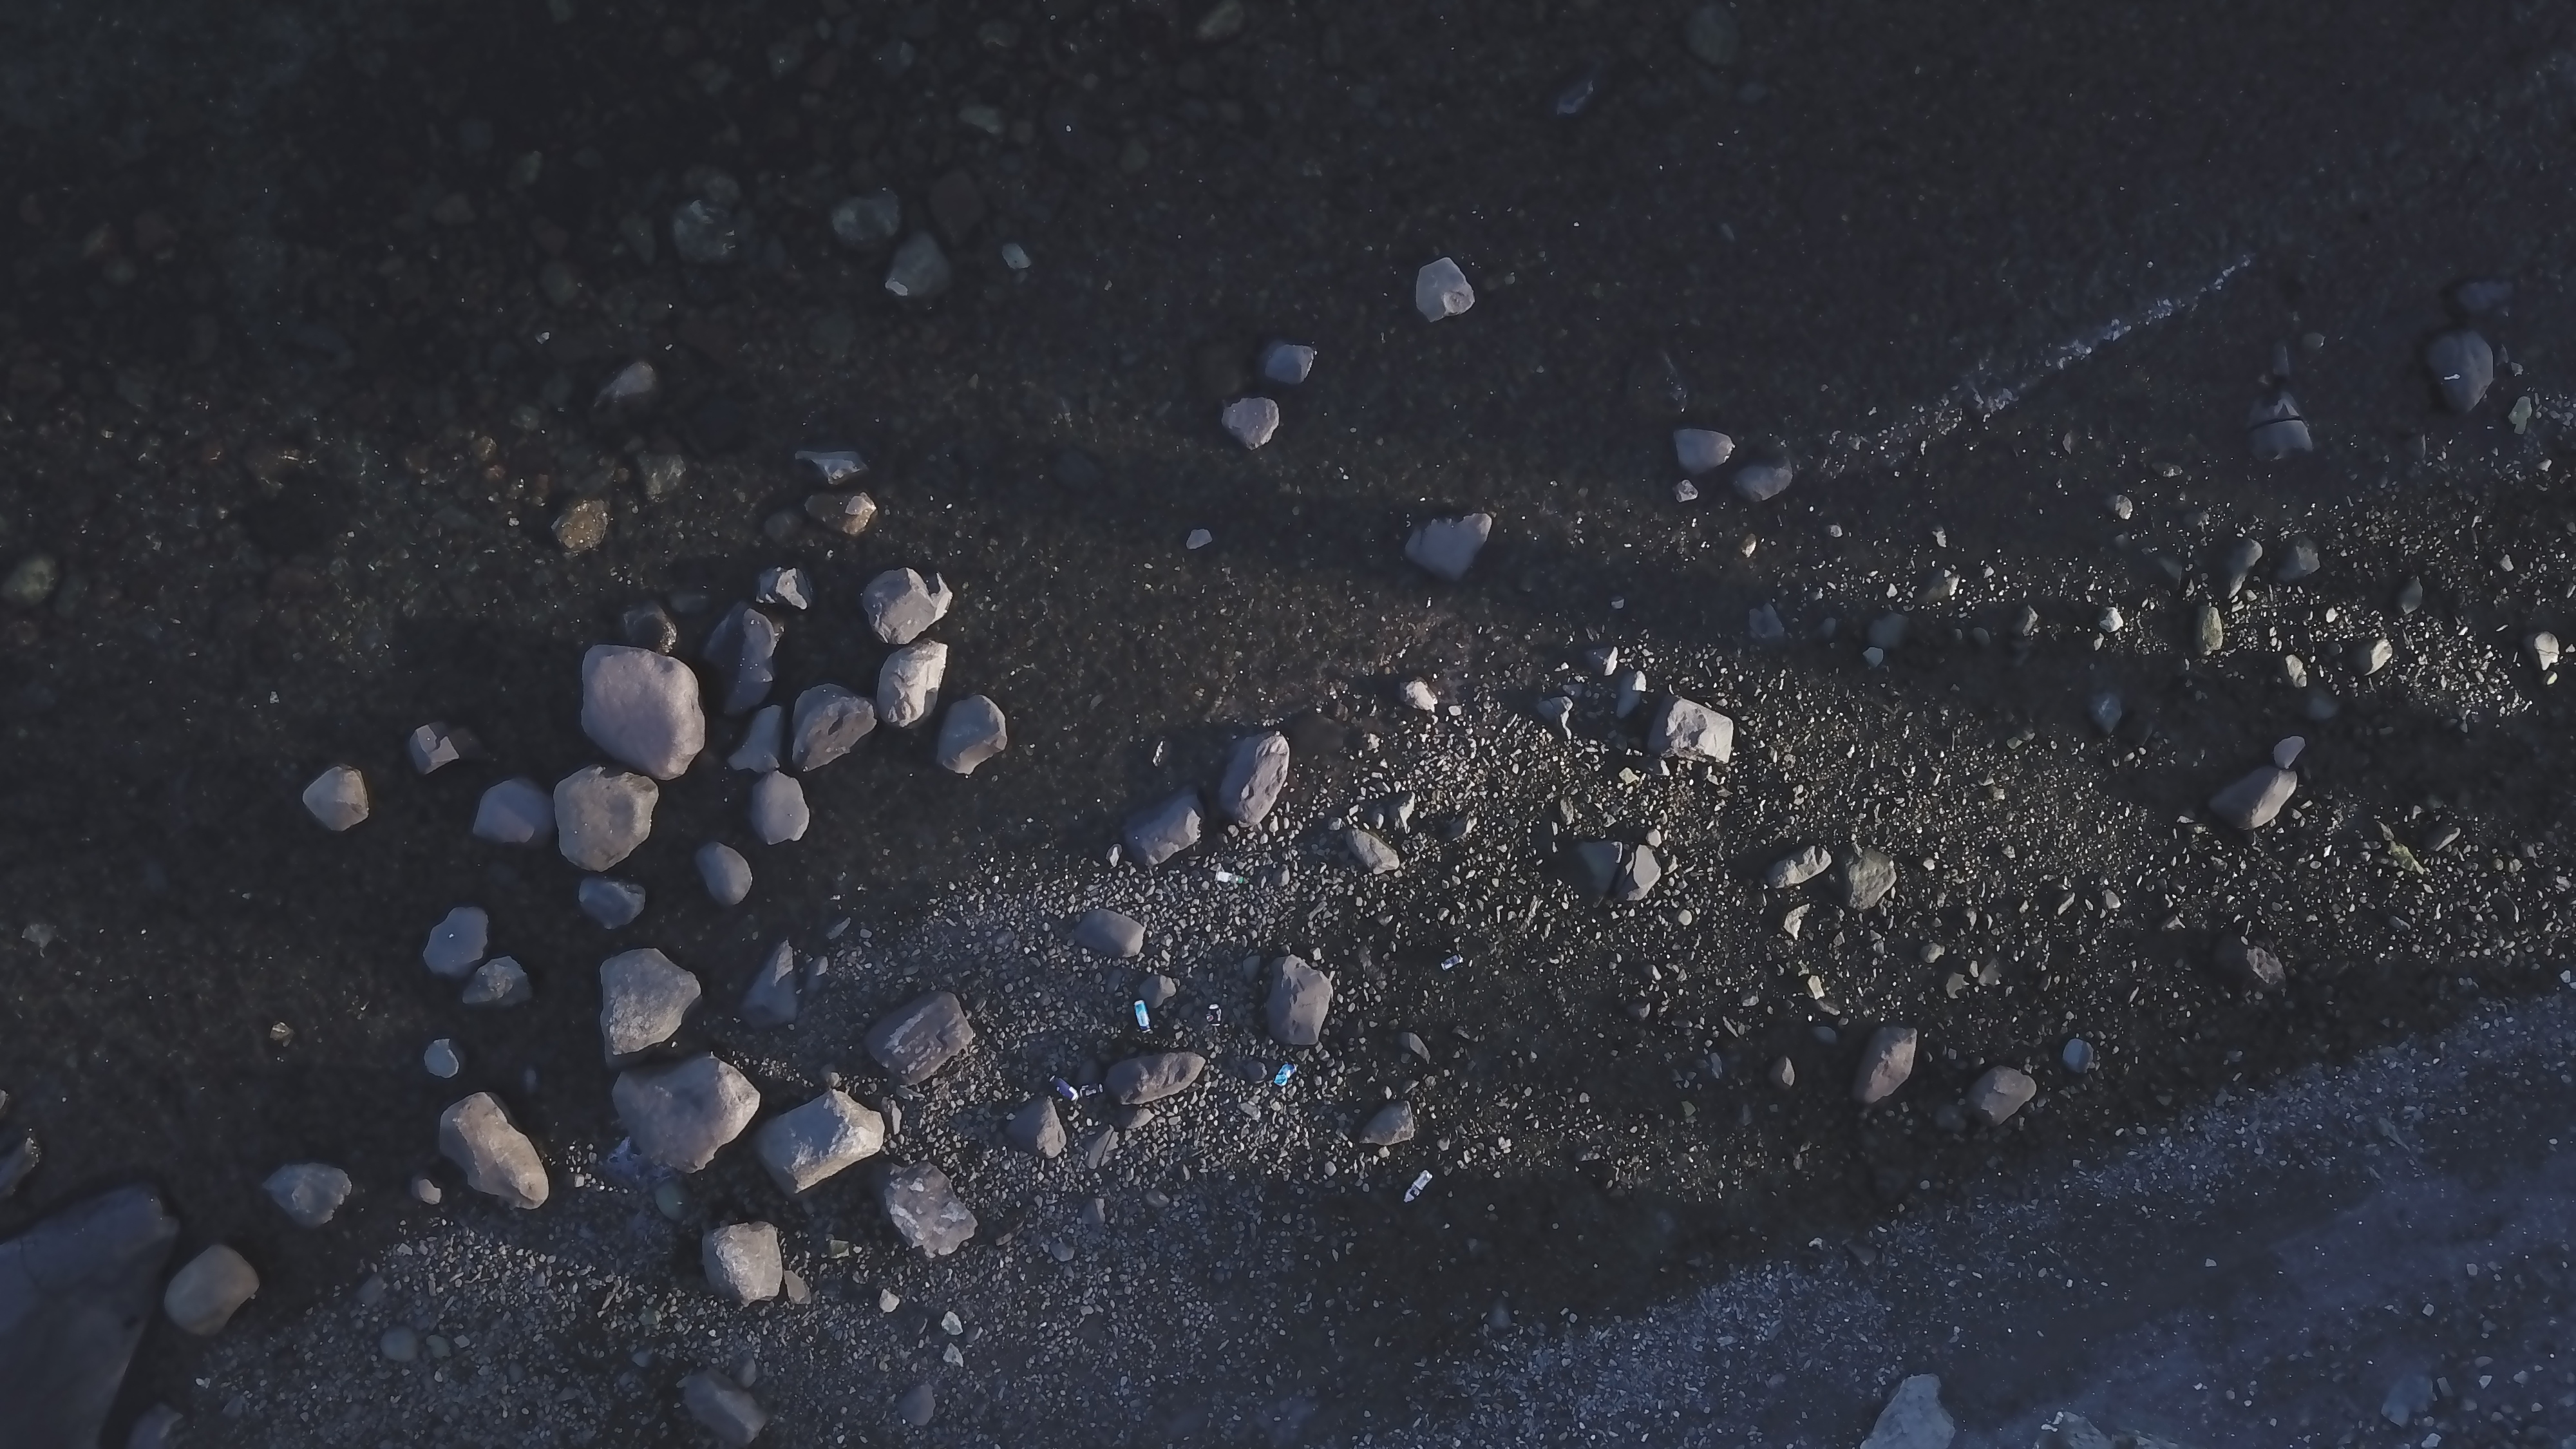Can: (1047, 1074, 1081, 1106), (1132, 1000, 1152, 1031), (1440, 955, 1468, 973), (1276, 1062, 1295, 1086), (1207, 1003, 1224, 1028), (1081, 1085, 1104, 1097)
PlasticBottle: (1405, 1169, 1433, 1205), (1210, 869, 1249, 885)
